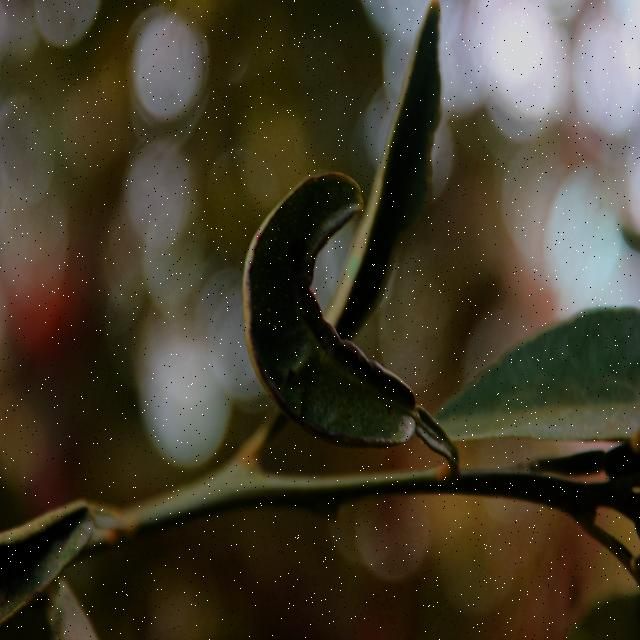canker: (246, 211, 308, 337)
